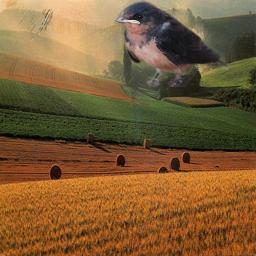Swallow: (114, 0, 228, 87)
